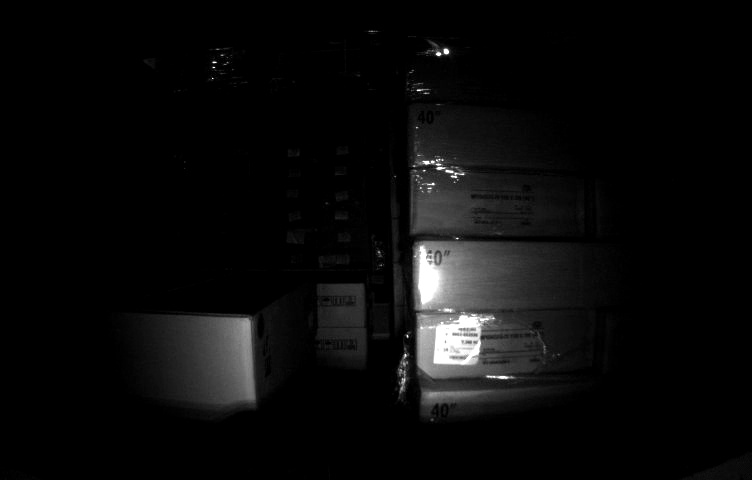True Barcode: (434, 322, 481, 365)
